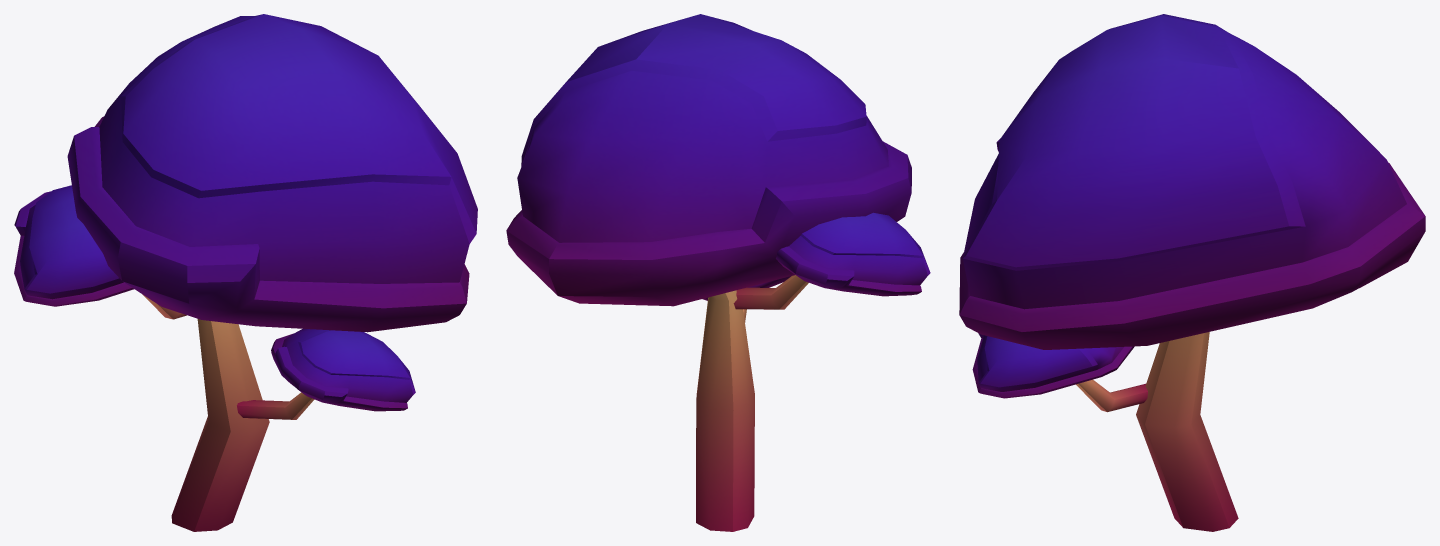
Rendered from Edge_Tree_4.fbx.
The picture shows the model from 3 angles, left to right: view 1: azimuth 30°, elevation 25°; view 2: azimuth 150°, elevation 25°; view 3: azimuth 270°, elevation 25°; orthographic projection. The views are drawn at different scales.
Visible parts, largest first — view 1: Edge_Tree_v4; view 2: Edge_Tree_v4; view 3: Edge_Tree_v4.
Part boxes in pixels (<box>): Edge_Tree_v4: <box>14,14,477,531</box>; Edge_Tree_v4: <box>506,14,930,531</box>; Edge_Tree_v4: <box>959,14,1425,531</box>.
Size of the model in its own units: 395 by 471 by 399.
